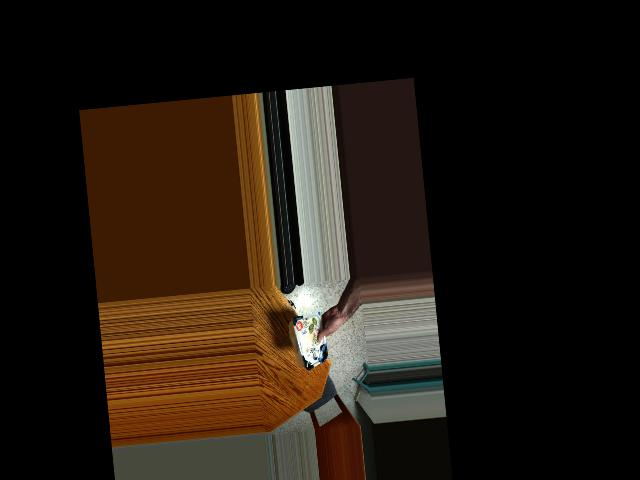cheese: (290, 313, 334, 368)
